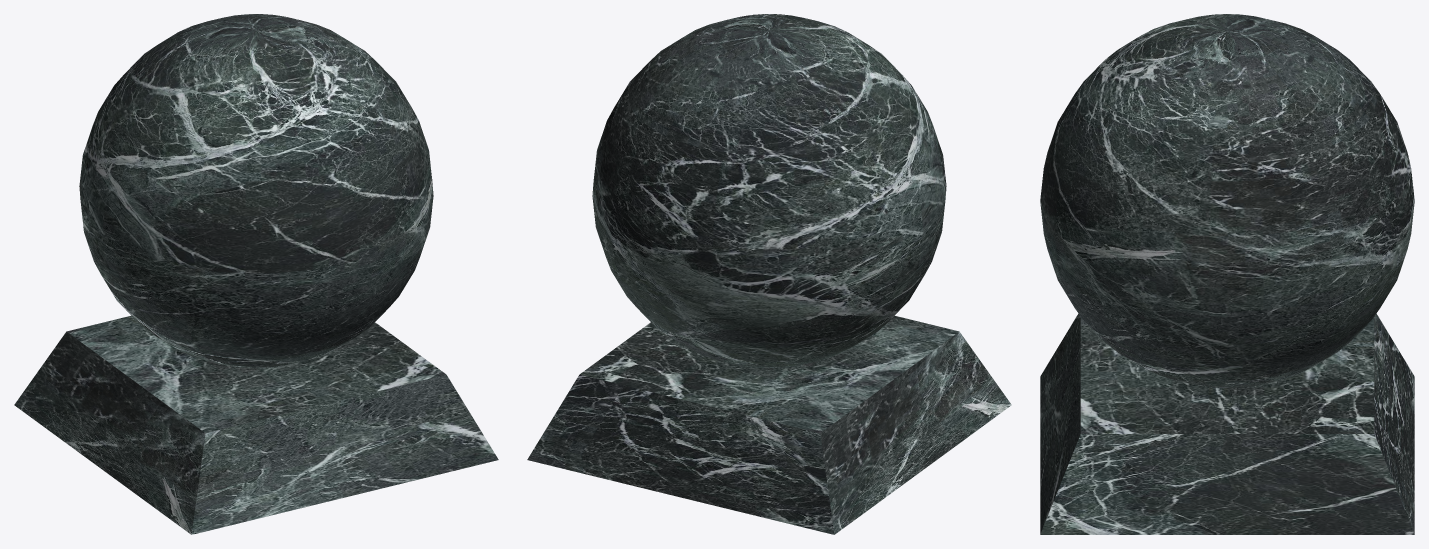
Rendered from marble_2.glb.
3 renders of one model, left to right at view 1: azimuth 30°, elevation 25°; view 2: azimuth 150°, elevation 25°; view 3: azimuth 270°, elevation 25°, orthographic. The views are drawn at different scales.
Visible parts, largest first — view 1: Cube; view 2: Cube; view 3: Cube.
Part boxes in pixels (x1,y1,x2,y2): Cube: (14,14,498,534); Cube: (527,14,1011,534); Cube: (1040,14,1414,534).
Bounding box in the file's own units: 2 × 2.5 × 2.
1 material, 1 textured.
